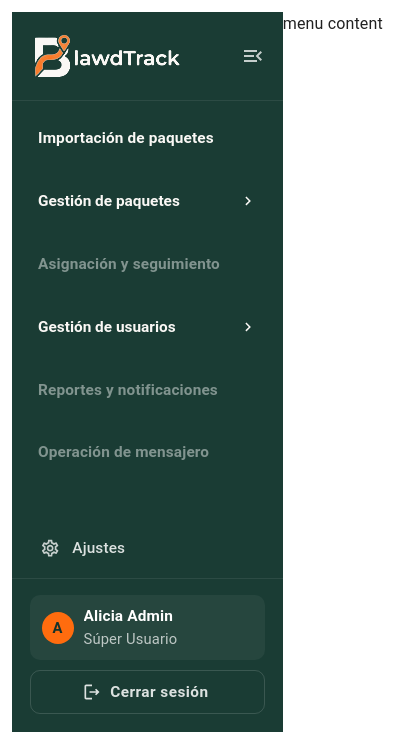
Test: MainMenuLayout sidebar › has a settings gear at the bottom of the sidebar, above the user, that goes to the settings menu
Click the link "Ajustes" at point(83, 548), box [40, 538, 125, 558]
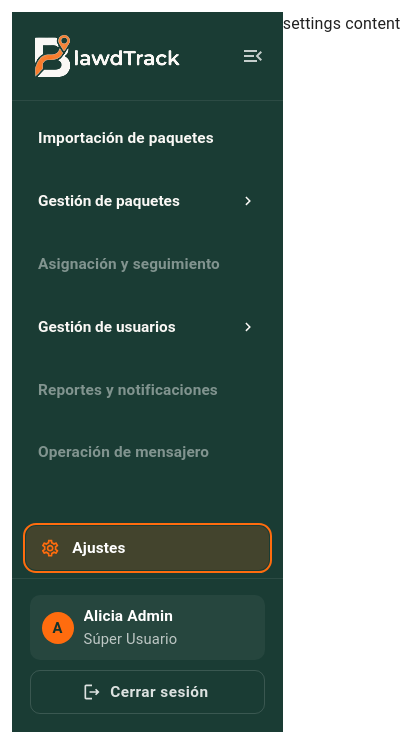
Result: the text "settings content" is shown at [283, 14, 400, 33]
